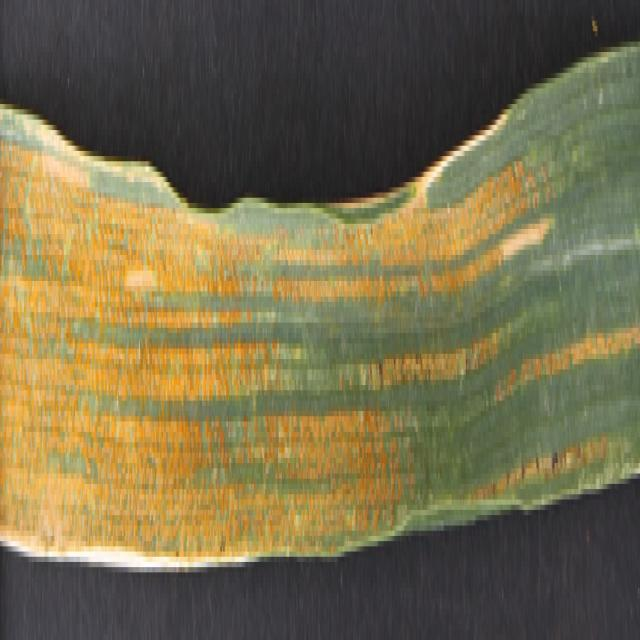leaf rust: (0, 114, 640, 556)
